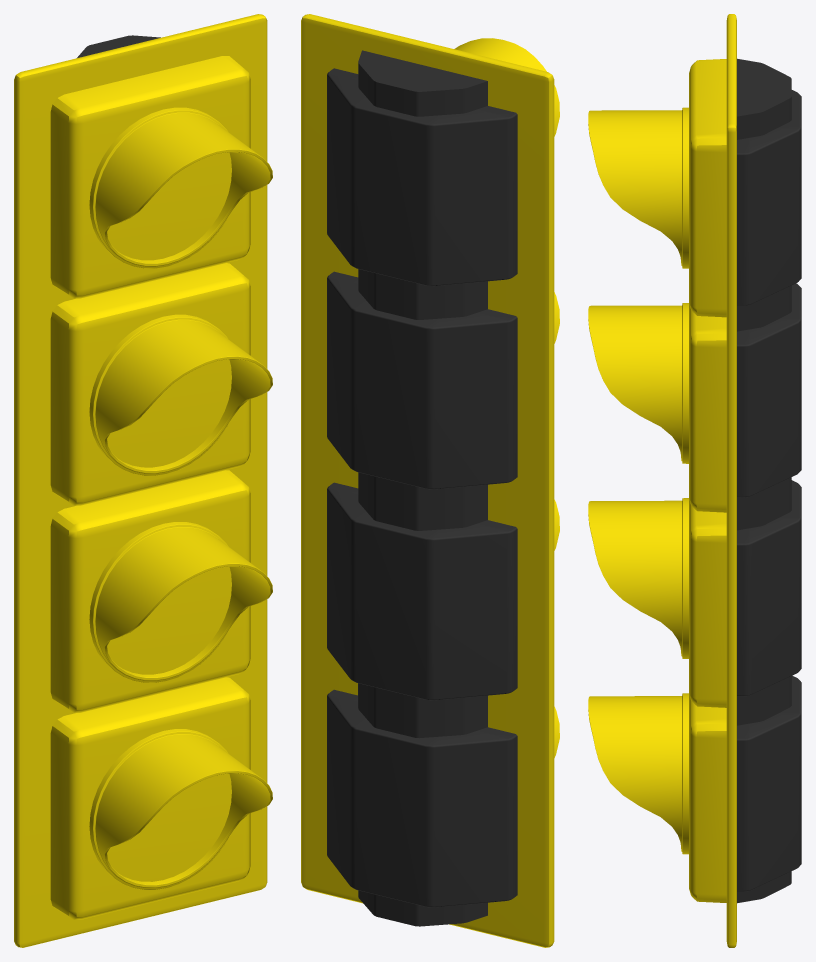
The model's file is trafficLight_02.fbx.
3 views of the same model, side by side, from view 1: azimuth 30°, elevation 25°; view 2: azimuth 150°, elevation 25°; view 3: azimuth 270°, elevation 25° (orthographic). The views are drawn at different scales.
Visible parts, largest first — view 1: trafficLight_02_LOD_0; view 2: trafficLight_02_LOD_0; view 3: trafficLight_02_LOD_0.
Boxes of the visible parts, <box> form: trafficLight_02_LOD_0: <box>14,14,272,947</box>; trafficLight_02_LOD_0: <box>301,14,559,947</box>; trafficLight_02_LOD_0: <box>588,14,801,947</box>.
Size of the model in its own units: 38.37 by 128 by 29.95.
